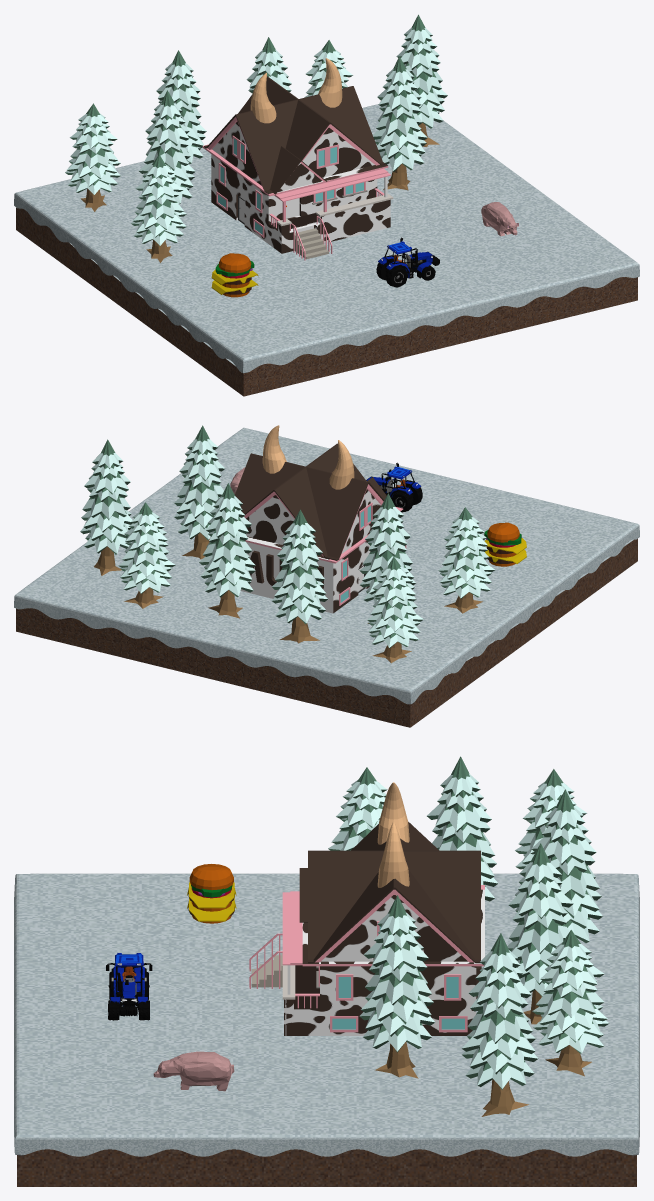
The picture shows the model from 3 angles, top to bottom: view 1: azimuth 30°, elevation 25°; view 2: azimuth 150°, elevation 25°; view 3: azimuth 270°, elevation 25°; orthographic projection. The views are drawn at different scales.
Visible parts, largest first — view 1: Cube.003, Cube.1242, VEHICLES_TRACTOR, OBJRANDOM_HAMBURGER, ANIMAL_HIPOPOTAMO; view 2: Cube.003, Cube.1242, OBJRANDOM_HAMBURGER, VEHICLES_TRACTOR; view 3: Cube.003, Cube.1242, VEHICLES_TRACTOR, OBJRANDOM_HAMBURGER, ANIMAL_HIPOPOTAMO.
Part boxes in pixels (x1,y1,x2,y2): Cube.003: (14, 14, 639, 396); Cube.1242: (202, 58, 393, 260); VEHICLES_TRACTOR: (376, 237, 439, 287); OBJRANDOM_HAMBURGER: (211, 253, 258, 297); ANIMAL_HIPOPOTAMO: (481, 202, 518, 236); Cube.003: (14, 425, 639, 727); Cube.1242: (235, 425, 406, 613); OBJRANDOM_HAMBURGER: (484, 522, 526, 566); VEHICLES_TRACTOR: (366, 462, 422, 512); Cube.003: (14, 756, 639, 1186); Cube.1242: (249, 782, 484, 1035); VEHICLES_TRACTOR: (106, 953, 152, 1020); OBJRANDOM_HAMBURGER: (187, 864, 236, 923); ANIMAL_HIPOPOTAMO: (153, 1051, 234, 1091).
Size of the model in its own units: 4040 by 1836 by 4040.
Materials: 38 (3 with a texture image).
